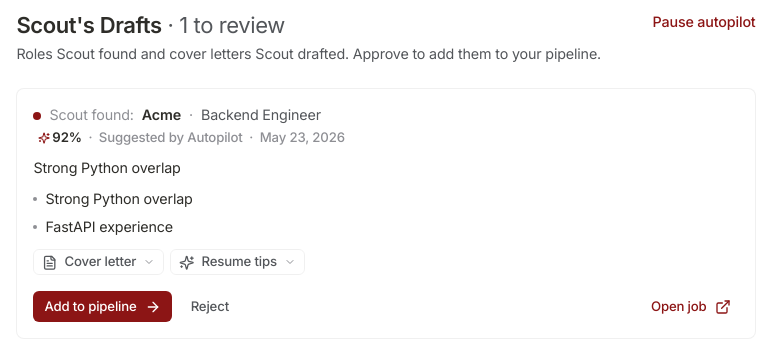
Test: PendingInboxPage › should dismiss an opportunity
Step 1. Click the button with aria-label "reject acme" → (210, 307), box x1=180 y1=291 x2=240 y2=322
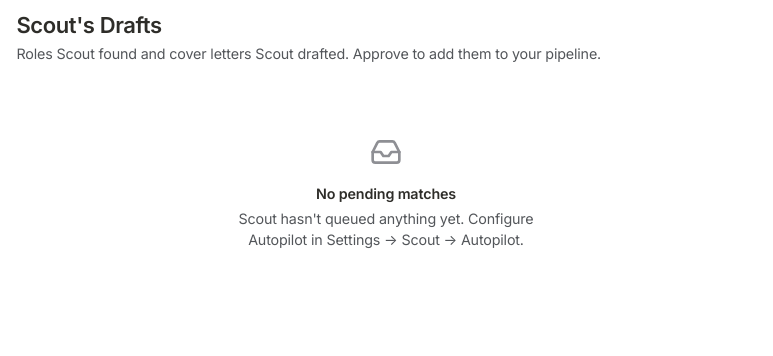
Result: the heading "No pending matches" is shown at x1=316 y1=184 x2=456 y2=205
Result: the text "Scout hasn't queued anything yet" is shown at x1=238 y1=210 x2=534 y2=248
